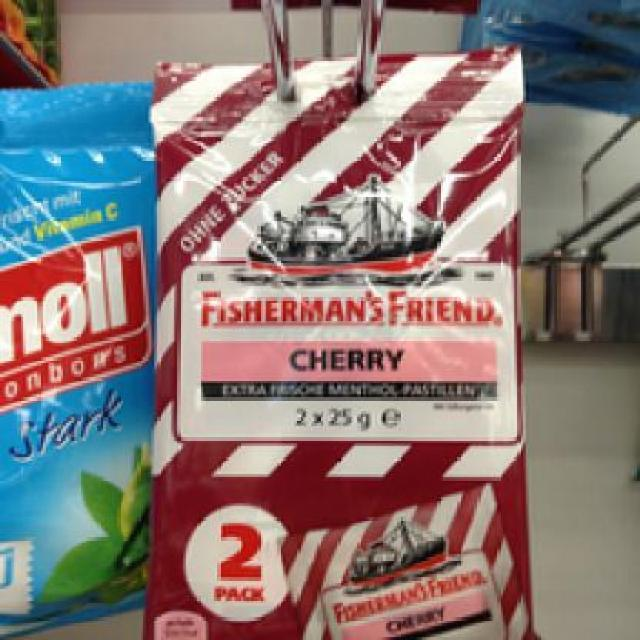Candy: (156, 65, 530, 638), (0, 83, 155, 624)
